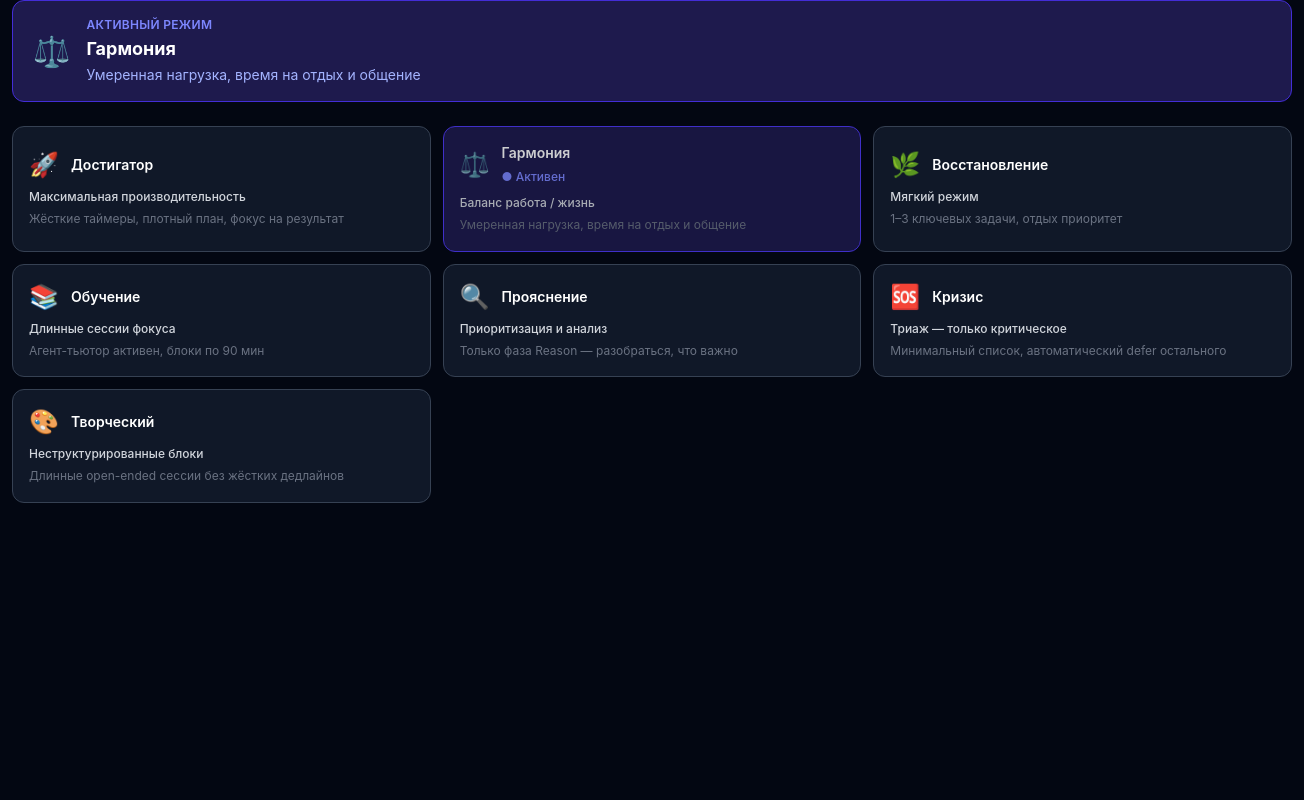
Test: ModeSwitcher › updates current mode after successful switch
The image size is (1304, 800).
Click the text "Достигатор": click(112, 164) [71,156,153,173]
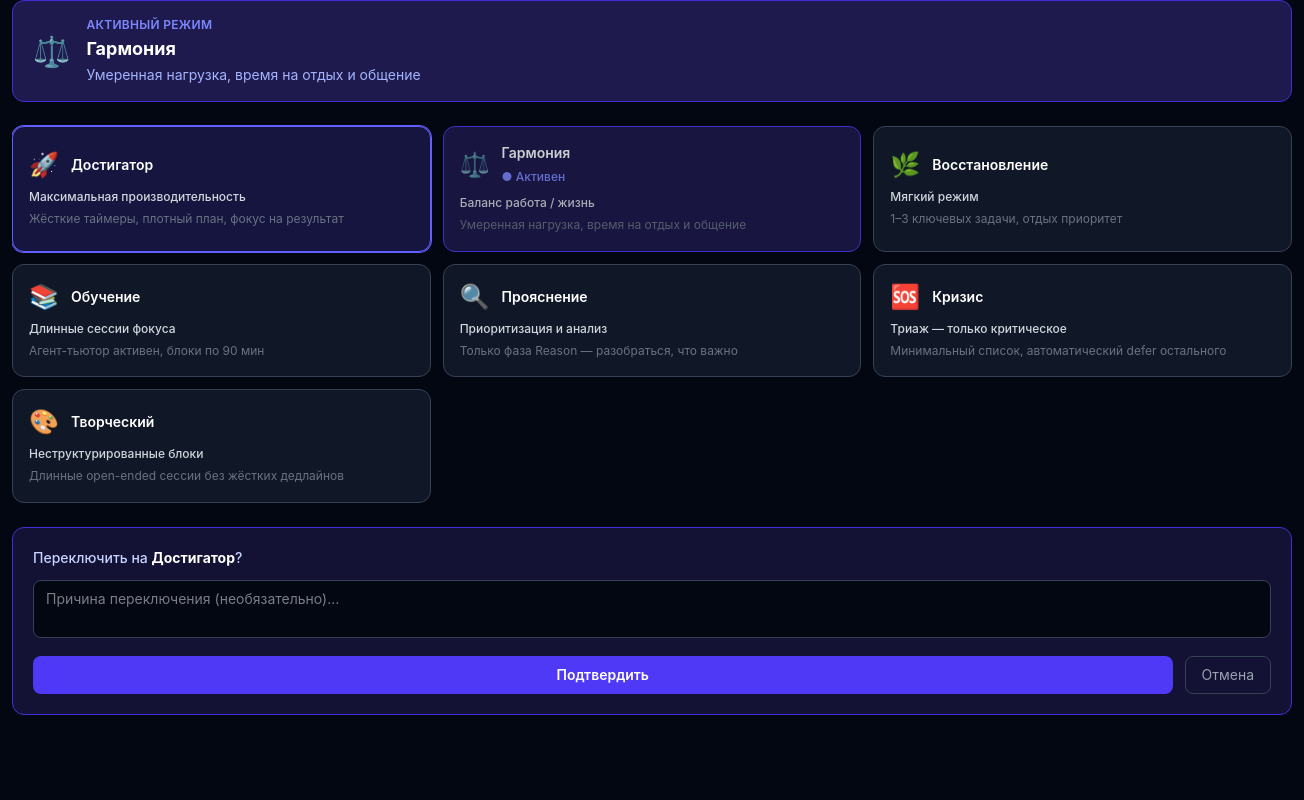
Now the button "Подтвердить" is shown
Click the button "Подтвердить": click(603, 674) [33,656,1172,694]
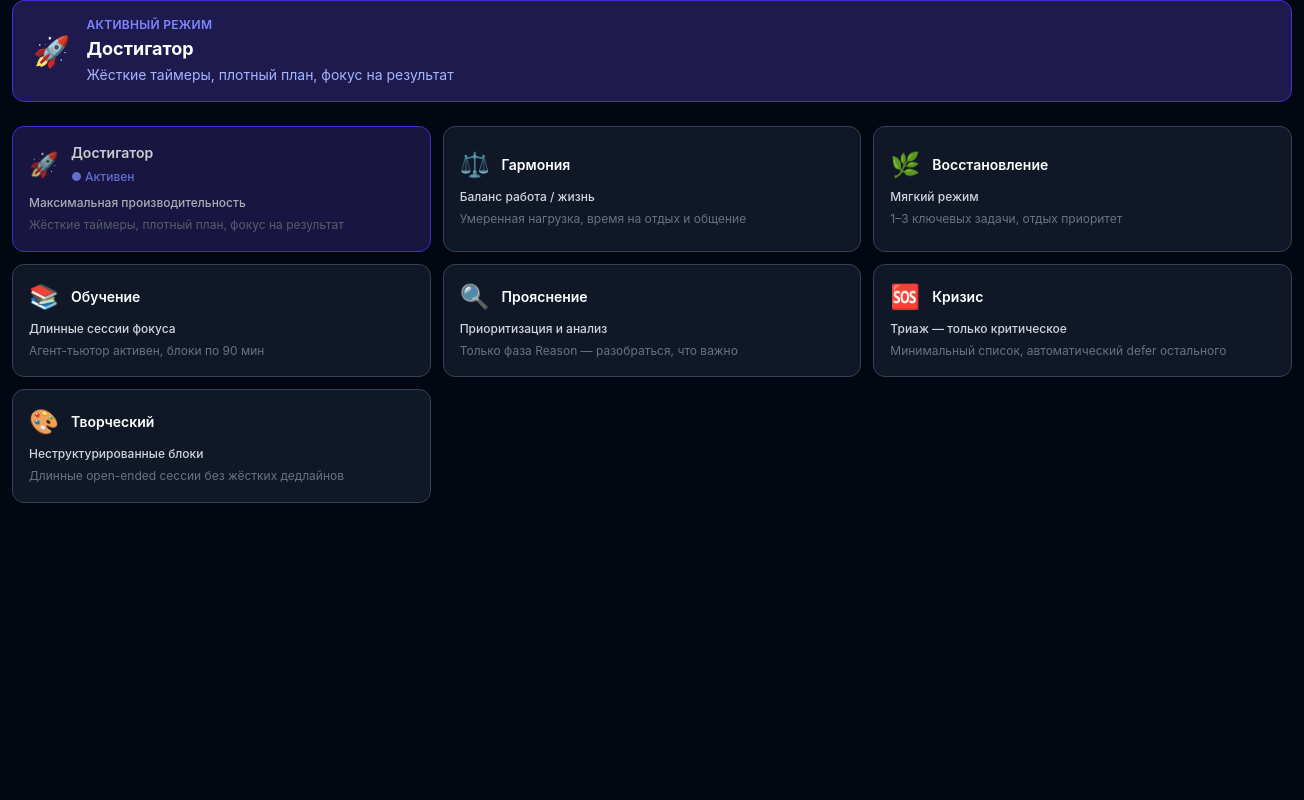
Now the text "Достигатор" below "Активный режим" is shown, box [86,38,194,59]
Now the button "Подтвердить" is gone
